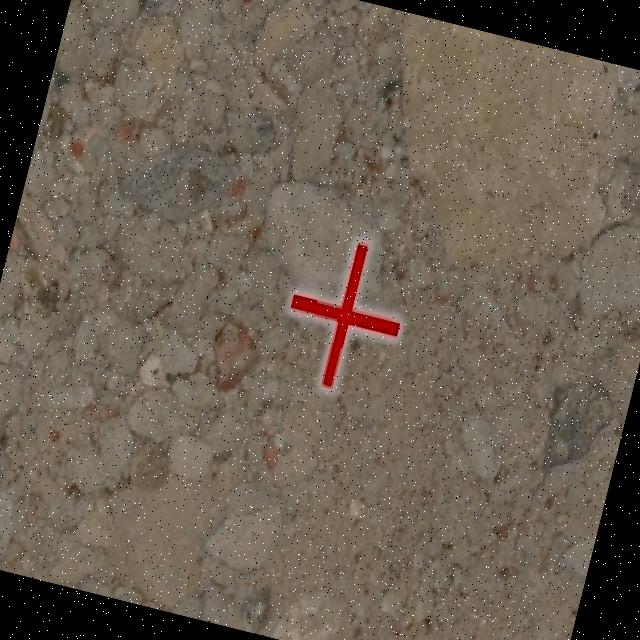x_marker: (272, 228, 416, 400)
